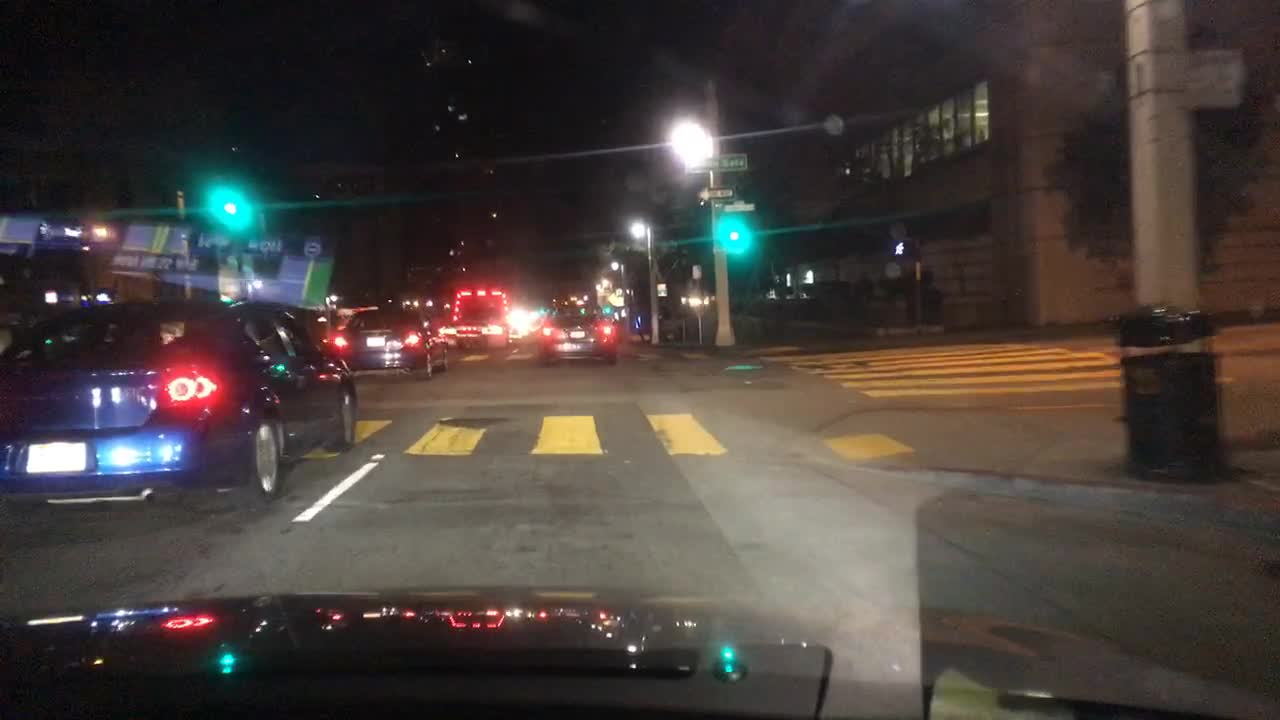bus: (449, 290, 508, 352)
car: (0, 296, 359, 516), (334, 305, 449, 374), (541, 307, 617, 364), (428, 315, 449, 349), (486, 313, 506, 340), (523, 308, 536, 332)
traffic light: (221, 183, 234, 221), (725, 217, 739, 248), (889, 239, 908, 259), (611, 291, 621, 308)
traffic sign: (685, 156, 747, 172), (695, 185, 730, 204), (722, 202, 757, 214)
